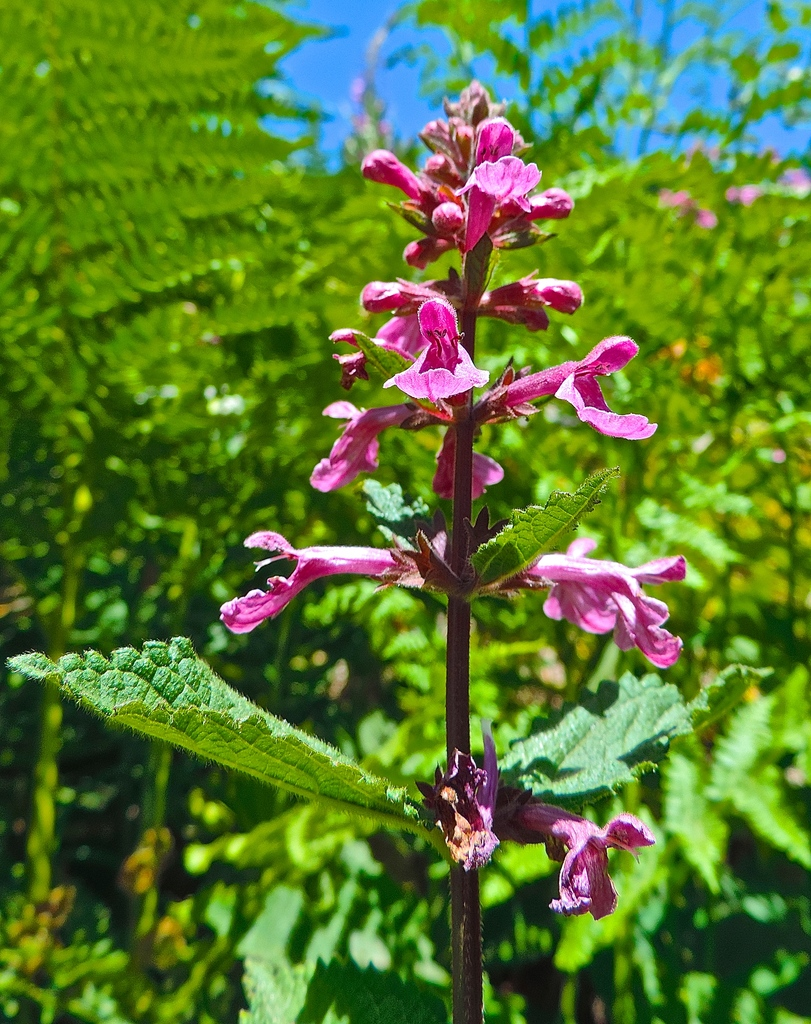Tree: (0, 0, 810, 1022)
